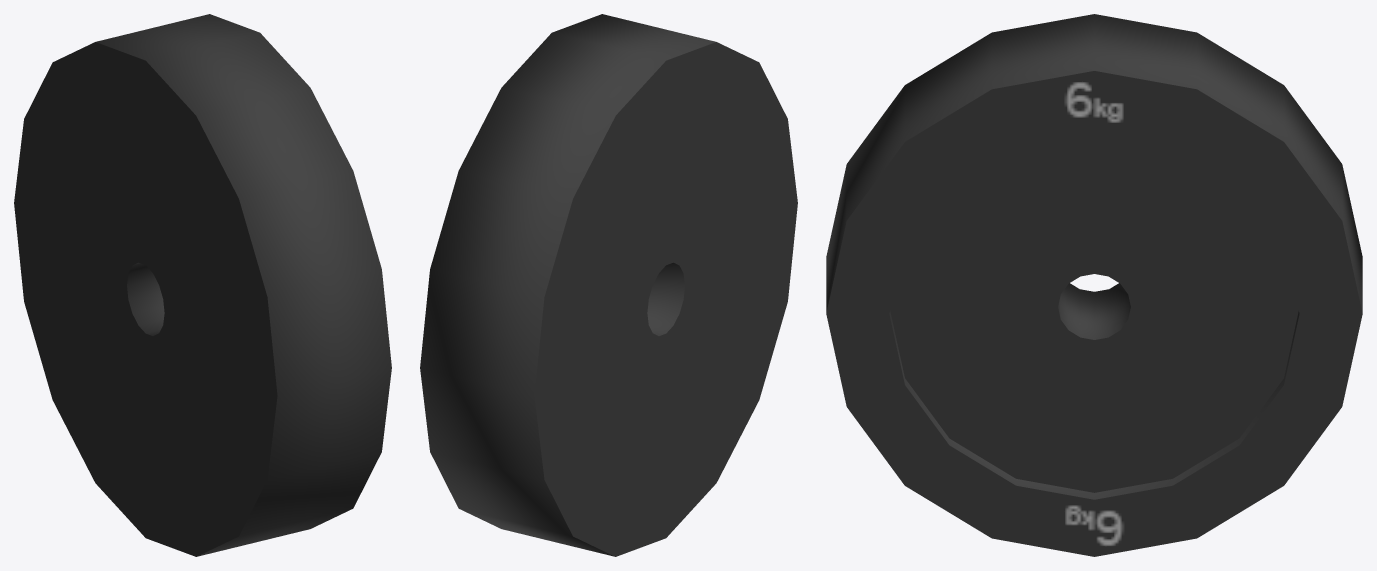
File: weight_3.glb
3 views of the same model, side by side, from view 1: azimuth 30°, elevation 25°; view 2: azimuth 150°, elevation 25°; view 3: azimuth 270°, elevation 25° (orthographic).
Visible parts, largest first — view 1: Weight_B; view 2: Weight_B; view 3: Weight_B.
Boxes of the visible parts, x1,y1,x2,y2 form: Weight_B: [14, 14, 391, 556]; Weight_B: [420, 14, 797, 556]; Weight_B: [826, 14, 1362, 556].
Size of the model in its own units: 0.0604 by 0.2408 by 0.2408.
1 material, 1 textured.
